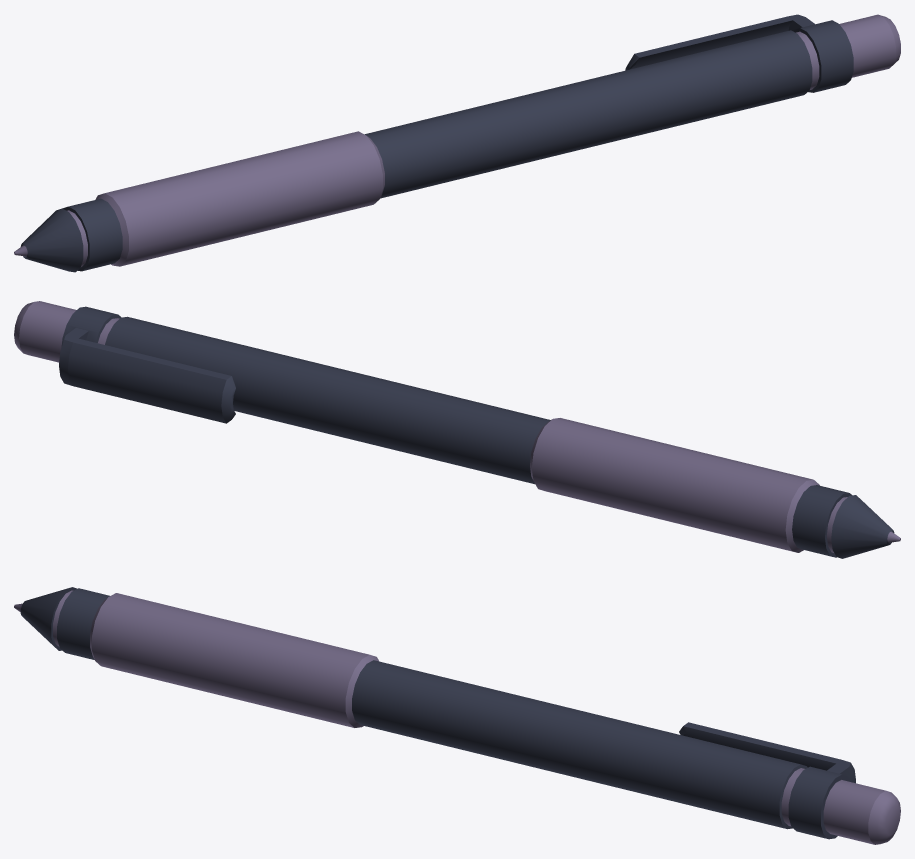
File: pen.fbx
3 renders of one model, top to bottom at view 1: azimuth 30°, elevation 25°; view 2: azimuth 150°, elevation 25°; view 3: azimuth 330°, elevation 25°, orthographic.
Parts seen in each view (by area): view 1: Cylinder; view 2: Cylinder; view 3: Cylinder.
Part boxes in pixels (x1,y1,x2,y2): Cylinder: (14, 14, 900, 272); Cylinder: (14, 301, 900, 558); Cylinder: (14, 587, 900, 844).
Bounding box in the file's own units: 426 × 31.58 × 42.8.
